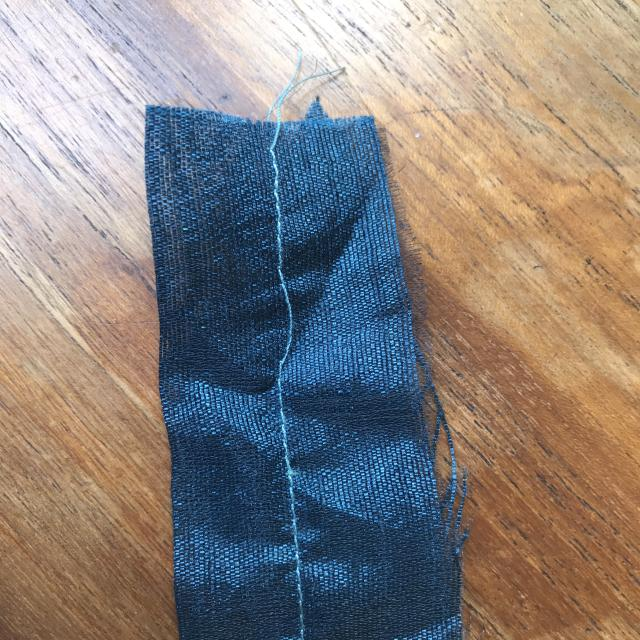skip: (260, 256, 313, 387)
